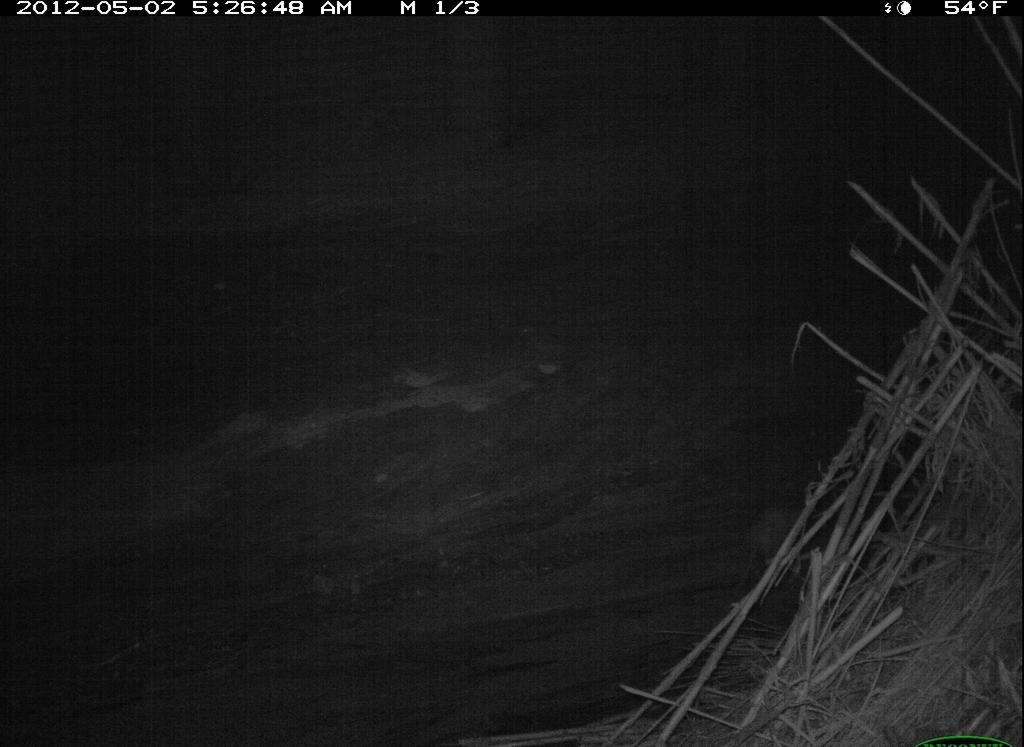opossum: (727, 488, 806, 601)
